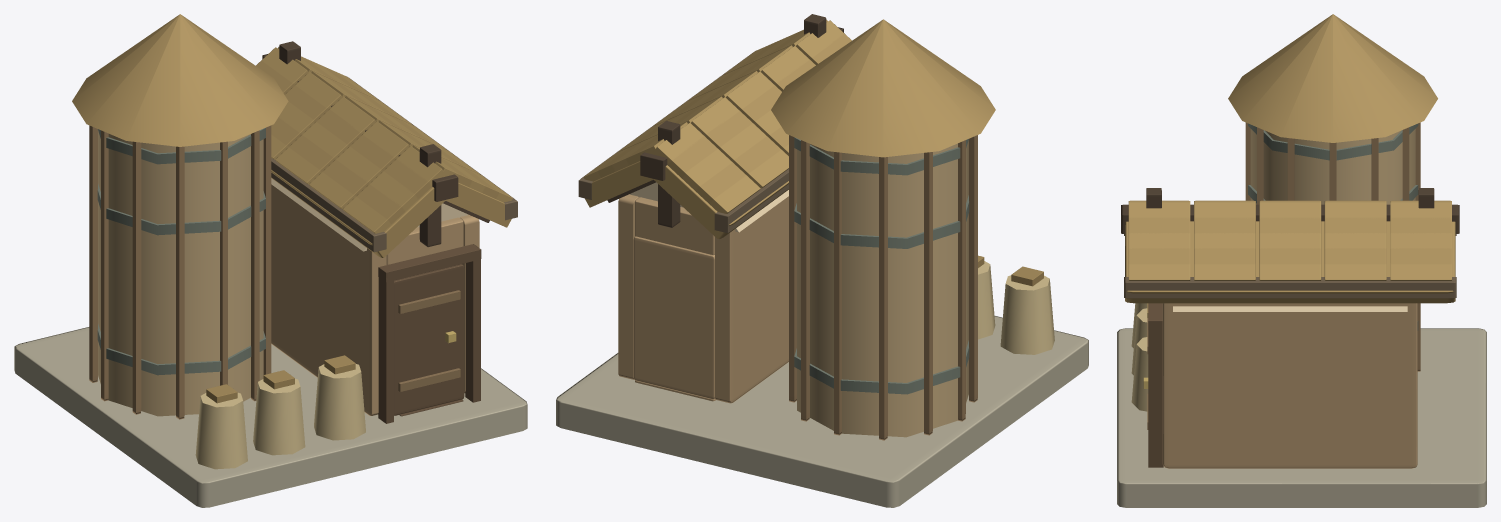
Rendered from granary-3.glb.
The picture shows the model from 3 angles, left to right: view 1: azimuth 30°, elevation 25°; view 2: azimuth 150°, elevation 25°; view 3: azimuth 270°, elevation 25°; orthographic projection. The views are drawn at different scales.
Parts seen in each view (by area): view 1: granary-3-0, door-hinge; view 2: granary-3-0; view 3: granary-3-0.
Part boxes in pixels (x1,y1,x2,y2): granary-3-0: [14, 14, 527, 507]; door-hinge: [394, 264, 464, 415]; granary-3-0: [556, 14, 1088, 507]; granary-3-0: [1117, 14, 1486, 507].
Size of the model in its own units: 1.92 by 2.16 by 1.9.
